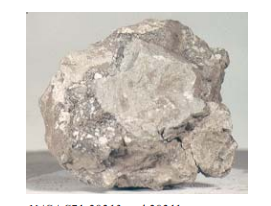Breccia: (35, 15, 242, 189)
